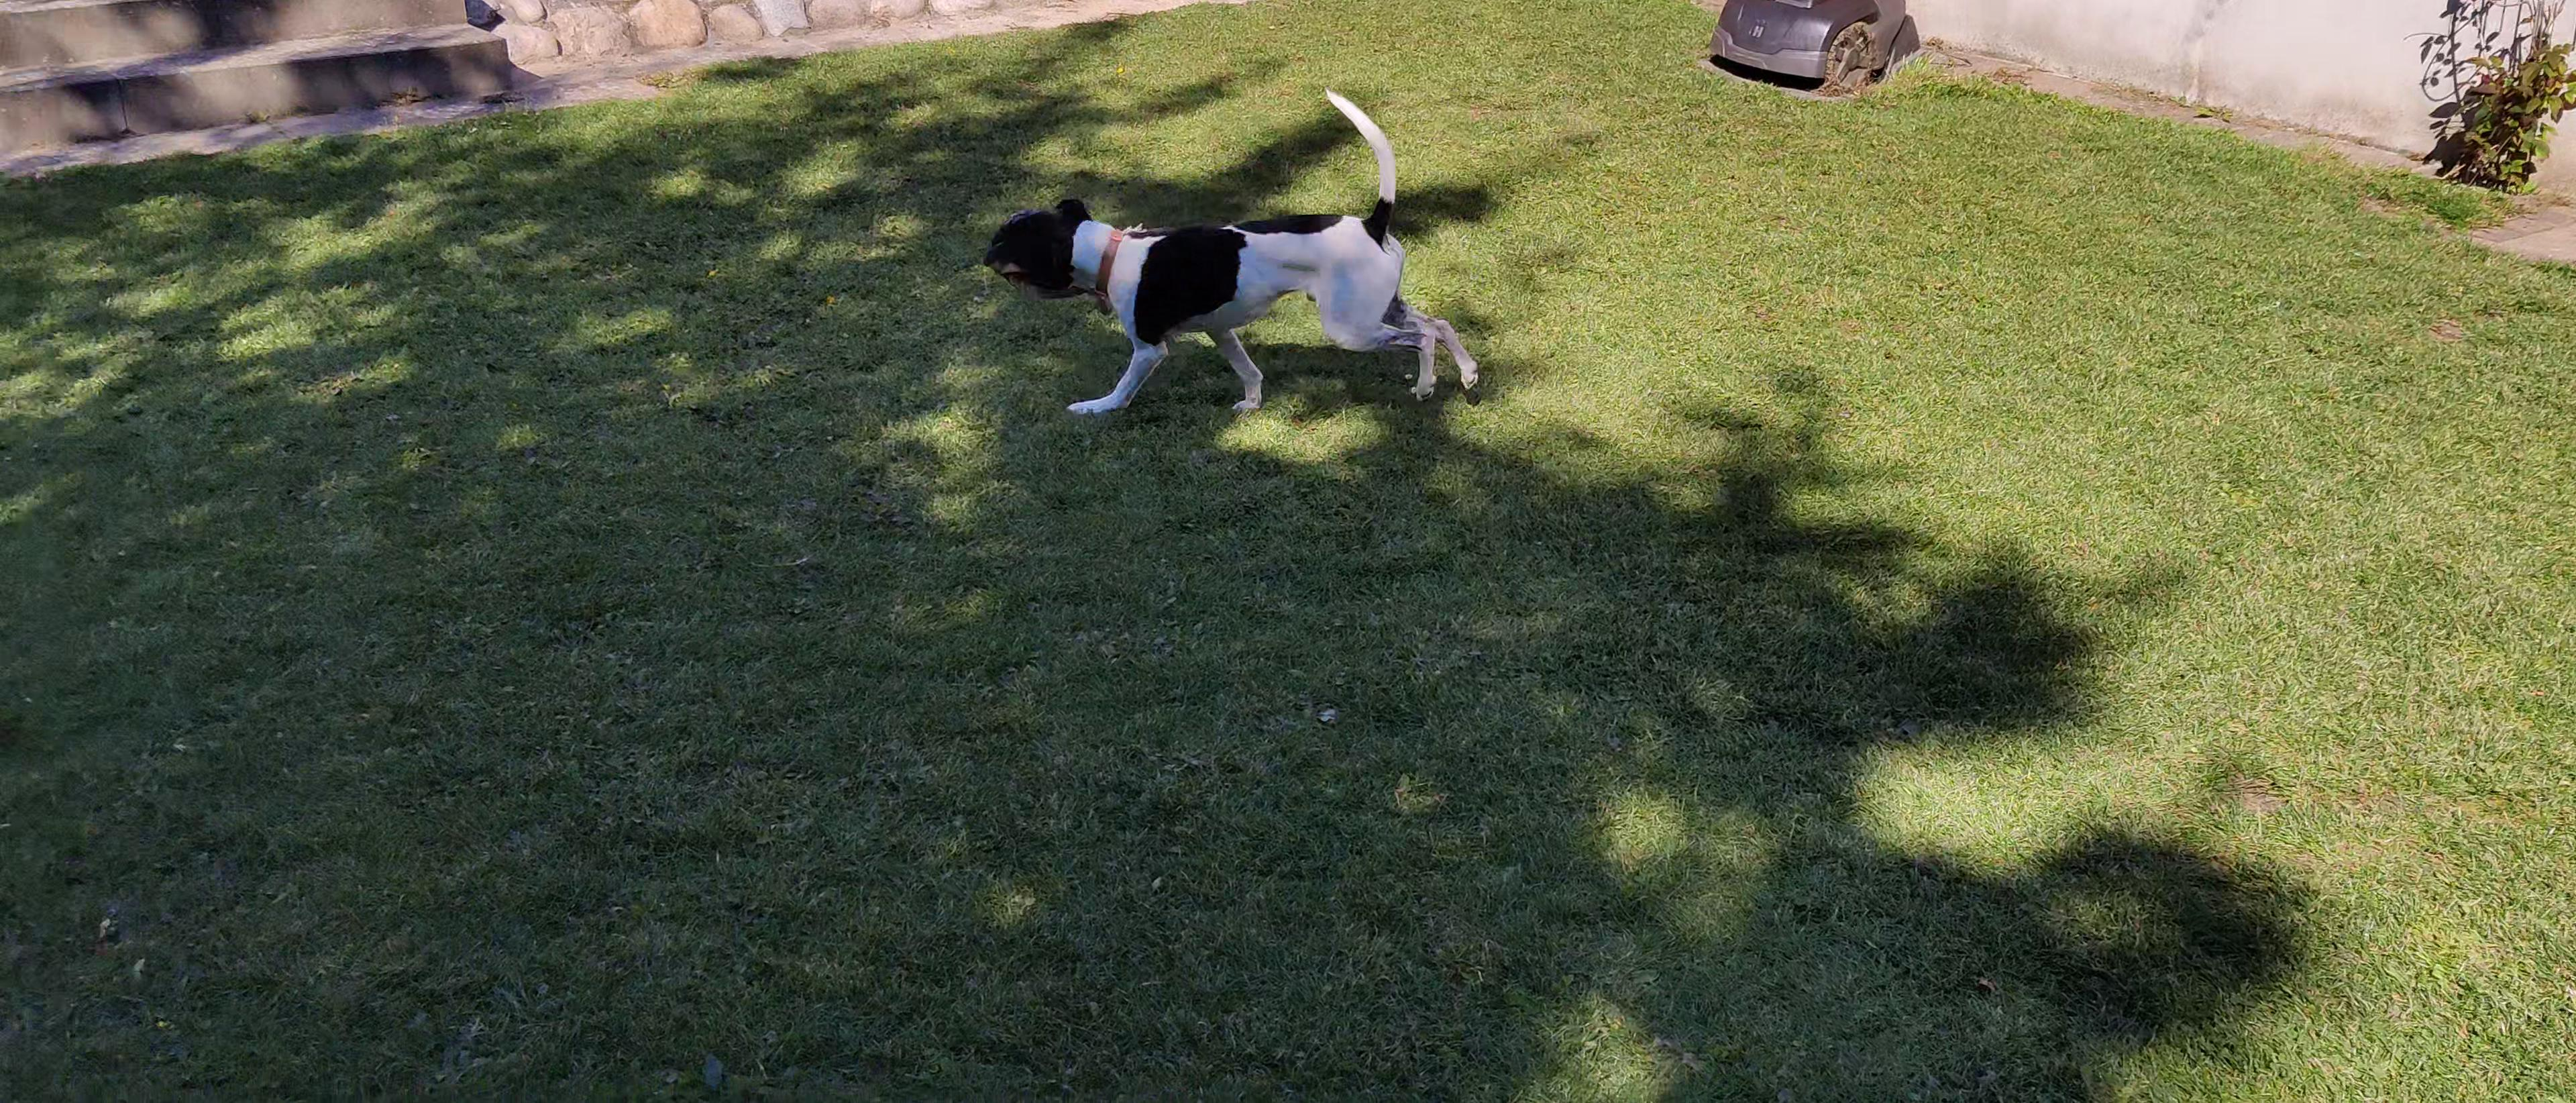Dog: (969, 81, 1488, 426)
